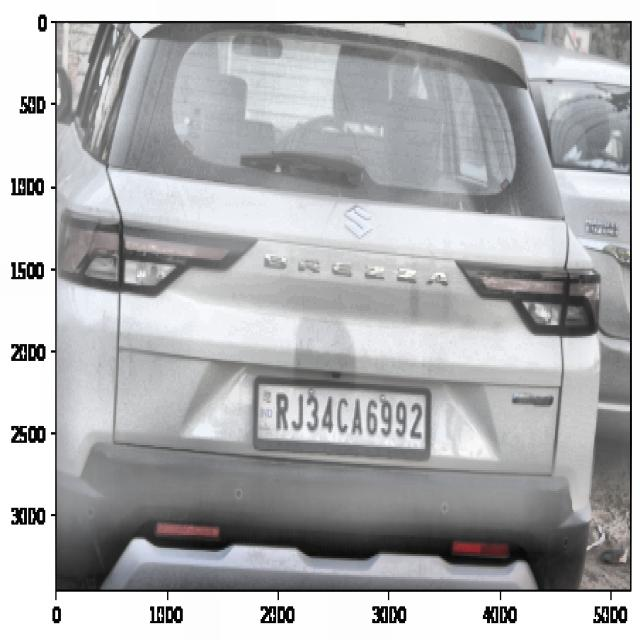license_plate: (266, 381, 426, 452)
